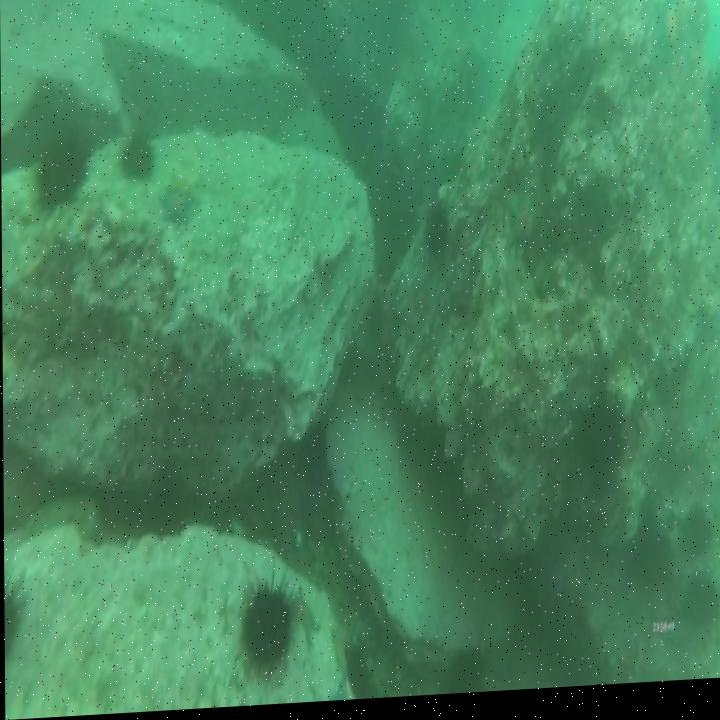echinus: (244, 593, 289, 665), (626, 529, 670, 597), (581, 409, 620, 480), (37, 141, 78, 201), (682, 583, 718, 637), (678, 511, 711, 566), (121, 139, 152, 183), (423, 212, 445, 256)
starfish: (506, 204, 542, 257), (156, 190, 192, 228)
